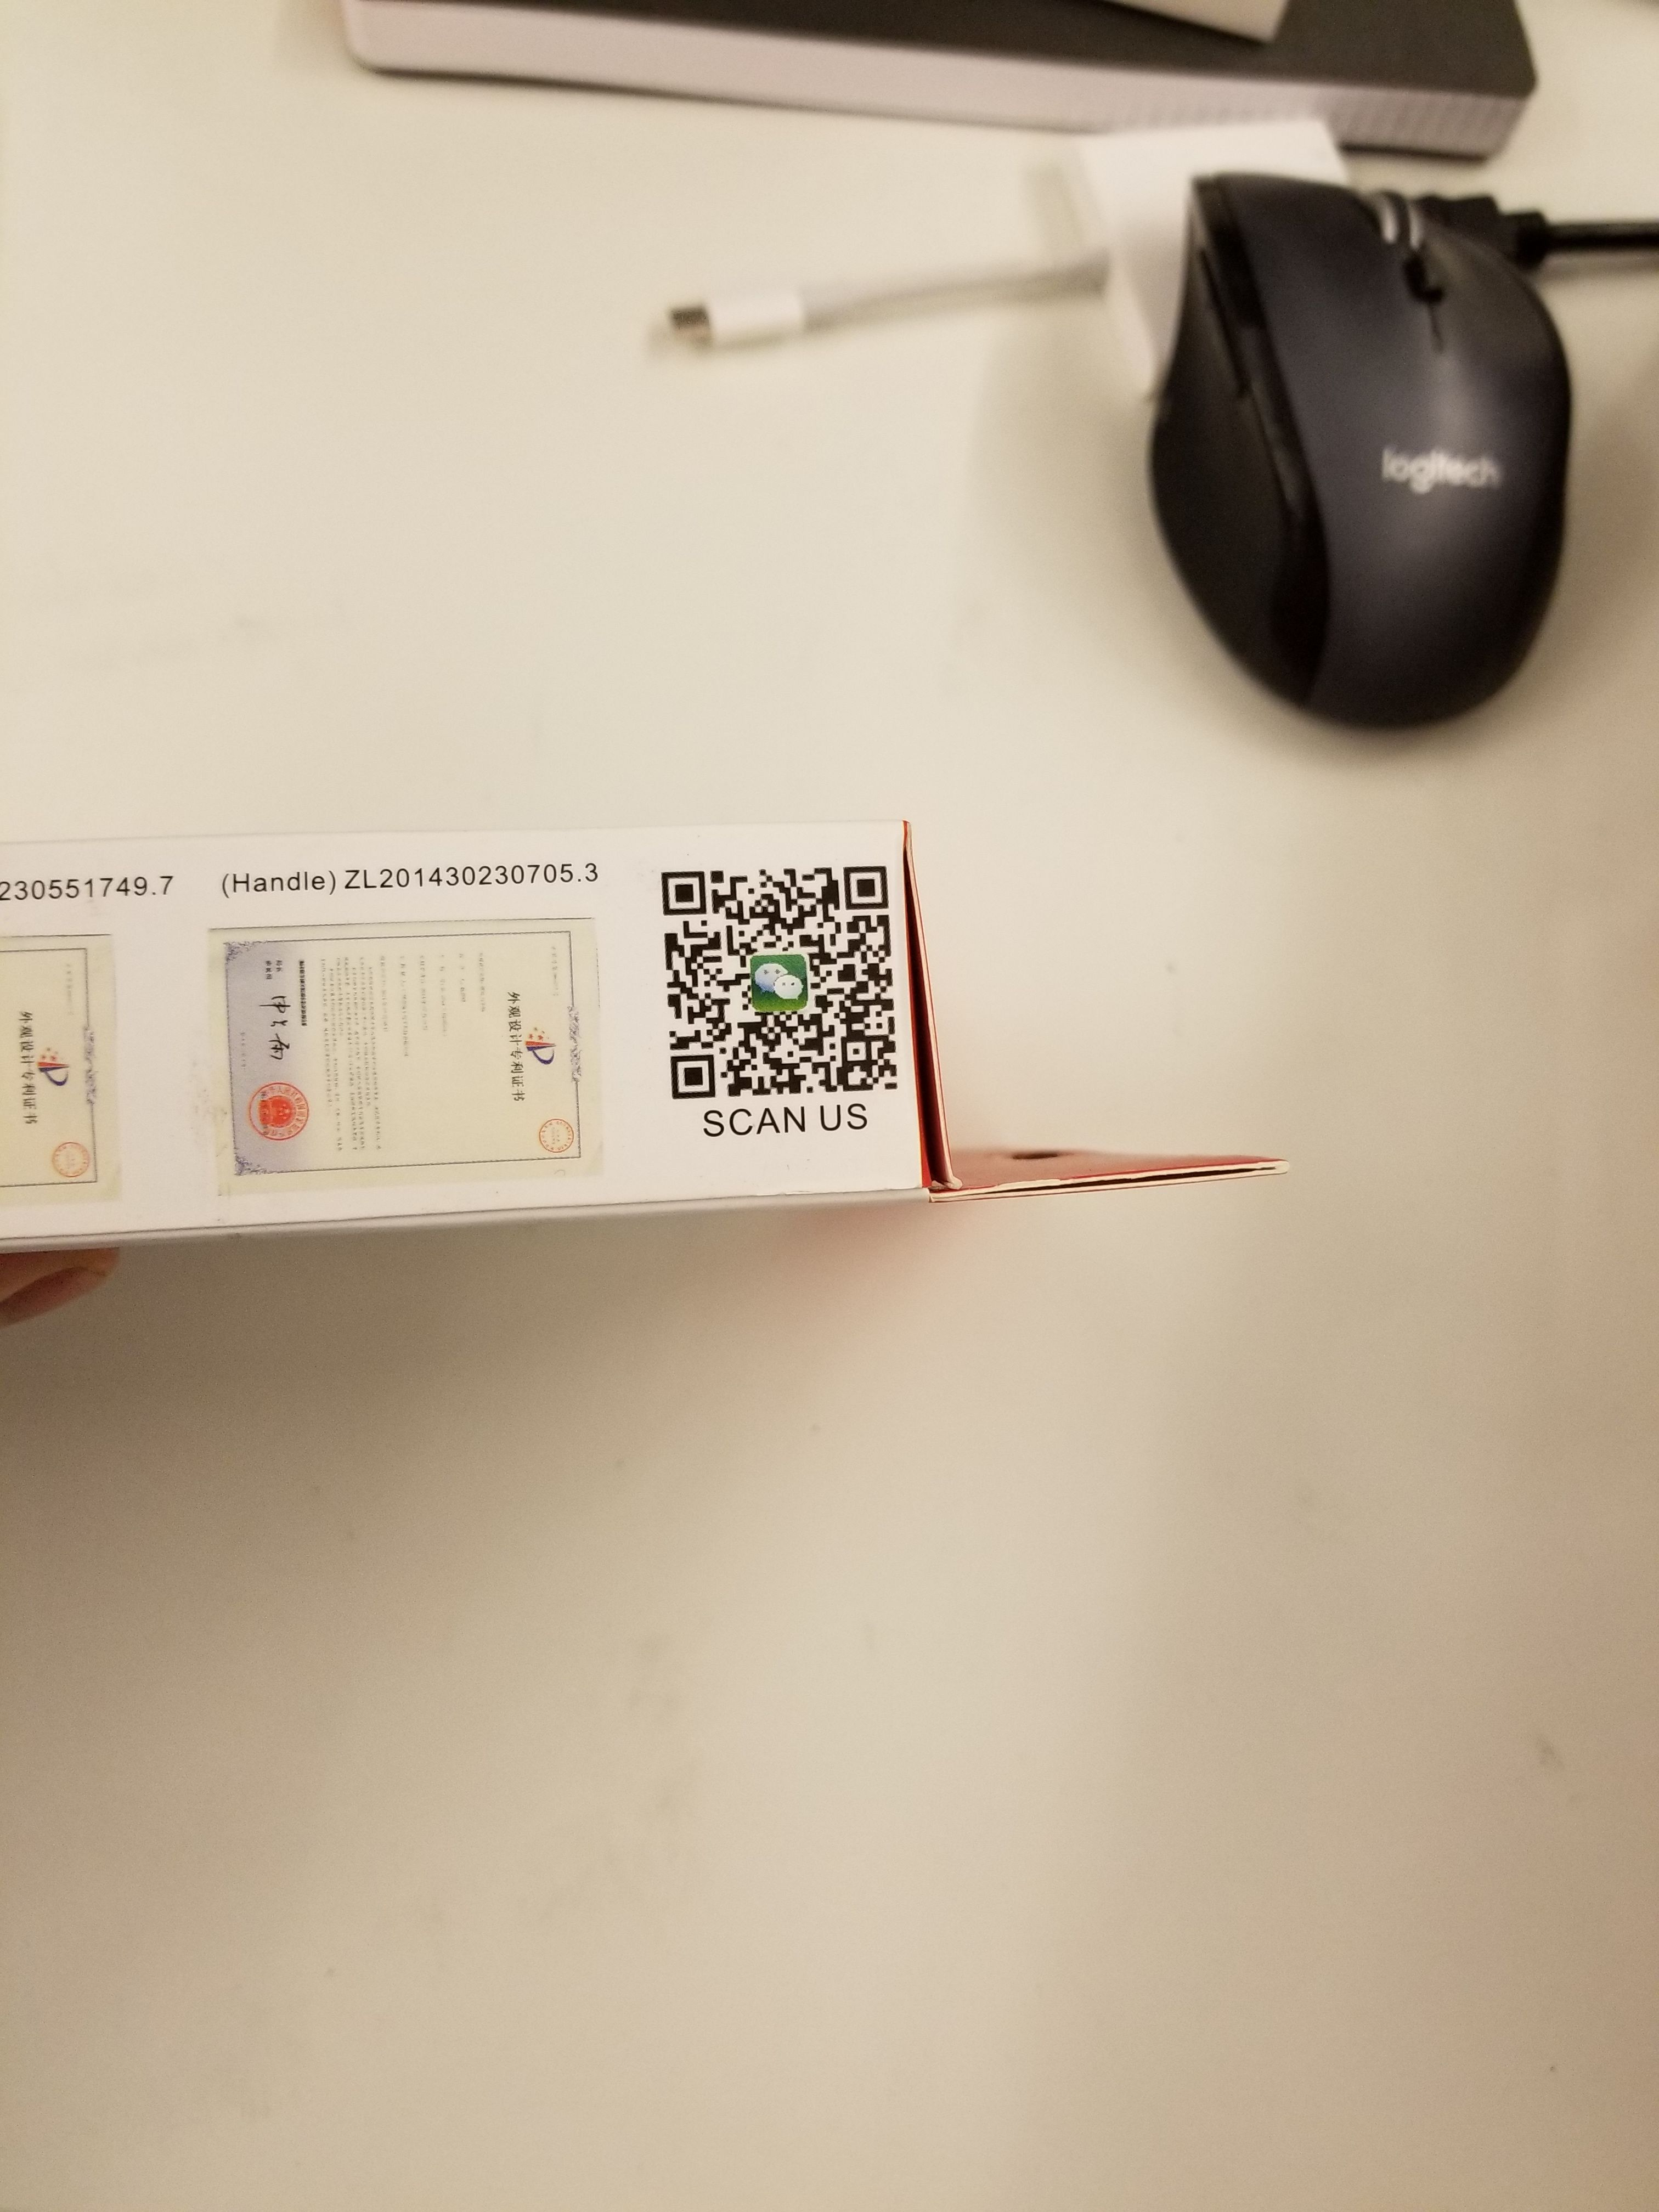QR_CODE: (633, 829, 925, 1136)
